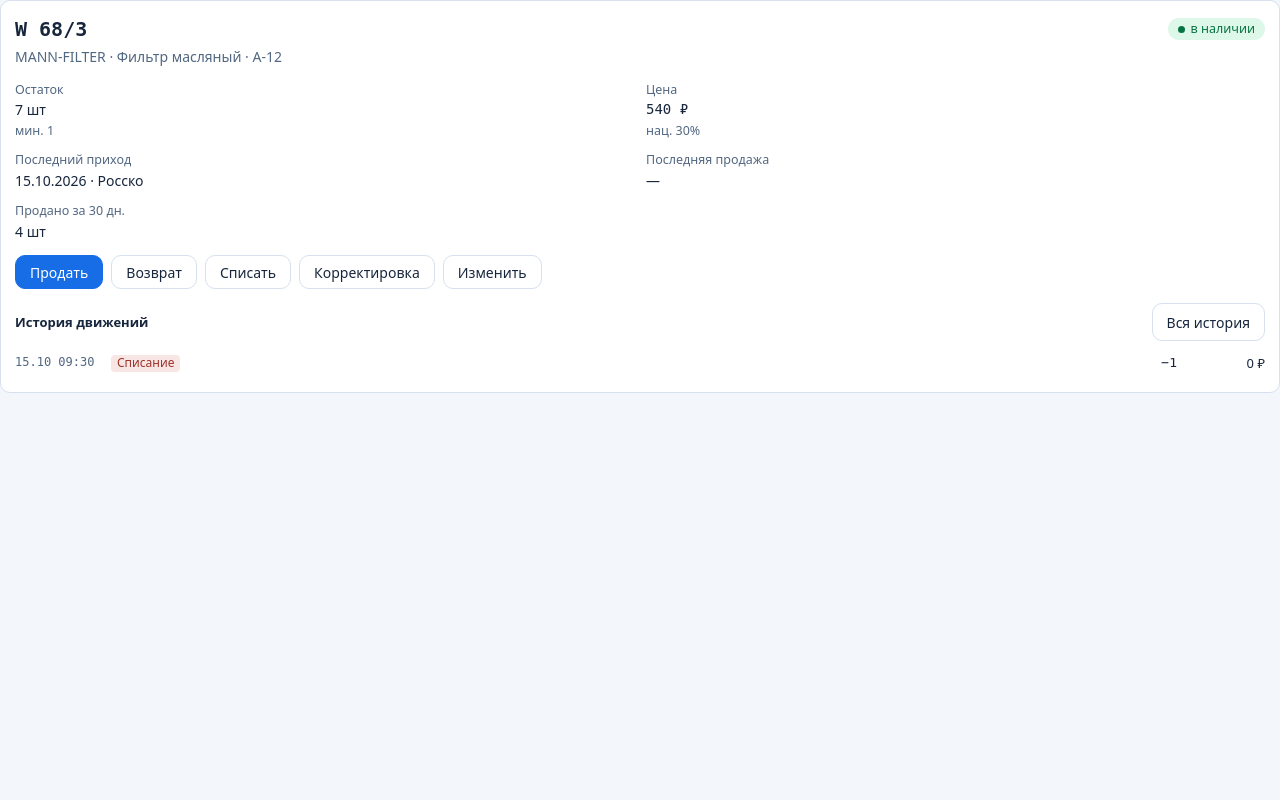
Test case: ItemPanel › opens operation details from a panel history row
Click the text "−1" at (1169, 362), box x1=1161 y1=355 x2=1177 y2=370
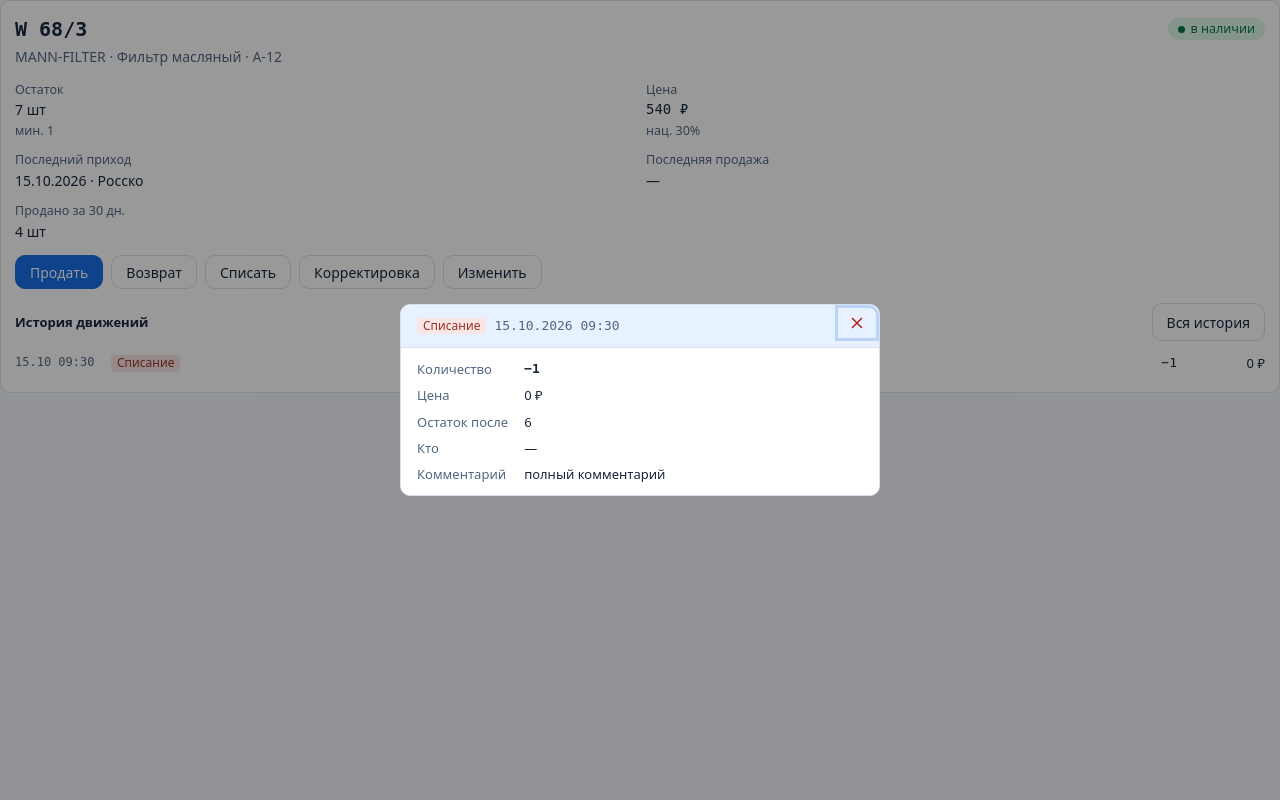
Now the text "Остаток после" is shown, box x1=417 y1=412 x2=508 y2=431
